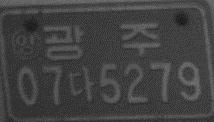0: (15, 65, 39, 108)
2: (123, 63, 150, 104)
5: (98, 63, 122, 104)
7: (40, 65, 65, 106), (150, 61, 174, 103)
9: (177, 61, 202, 101)
광주_D: (42, 23, 161, 60)
다: (67, 65, 97, 103)
영: (10, 27, 42, 62)
